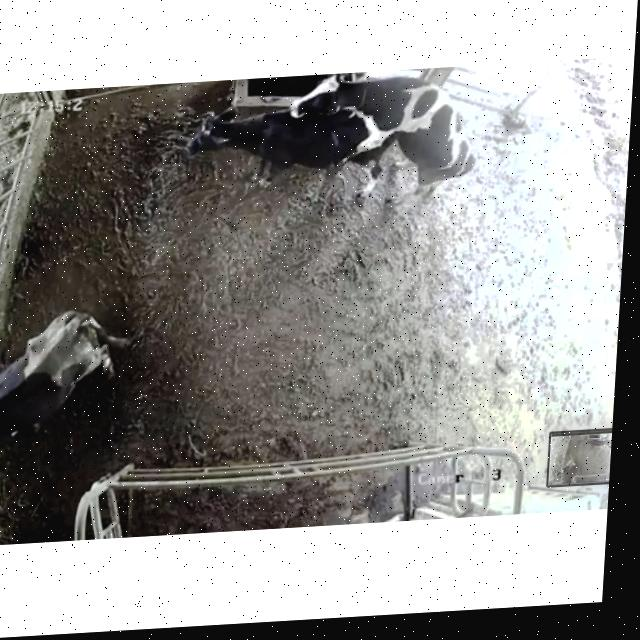ride: (280, 64, 490, 221)
